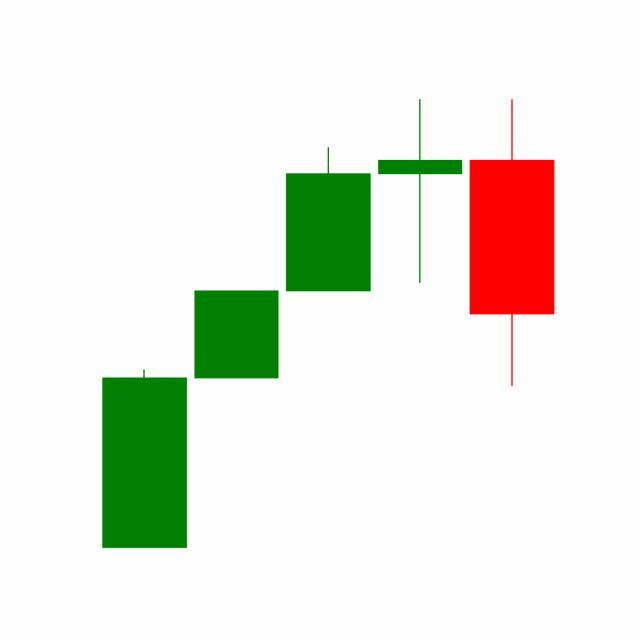Spinning Top: (374, 97, 468, 286)
